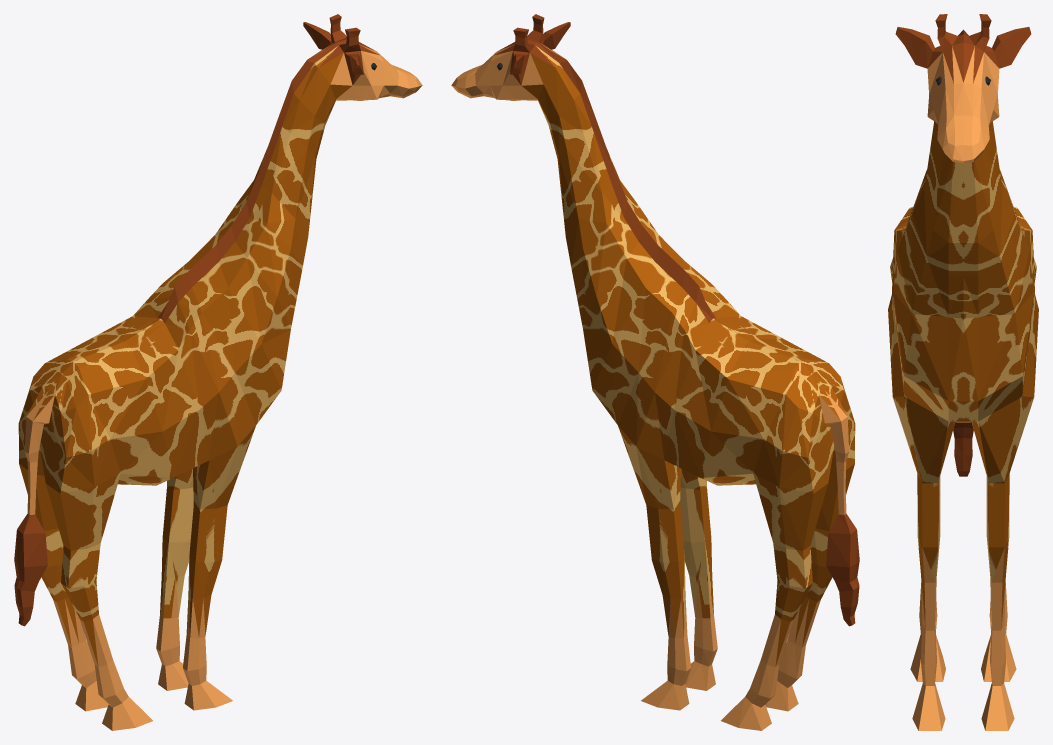
The model's file is Giraffe.fbx.
3 renders of one model, left to right at view 1: azimuth 30°, elevation 25°; view 2: azimuth 150°, elevation 25°; view 3: azimuth 270°, elevation 25°, orthographic. The views are drawn at different scales.
Parts seen in each view (by area): view 1: Giraffe; view 2: Giraffe; view 3: Giraffe.
Part boxes in pixels (<box>): Giraffe: <box>14,14,422,730</box>; Giraffe: <box>451,14,859,730</box>; Giraffe: <box>888,14,1038,730</box>.
Bounding box in the file's own units: 367 × 550 × 95.05.
Materials: 4 (1 with a texture image).
